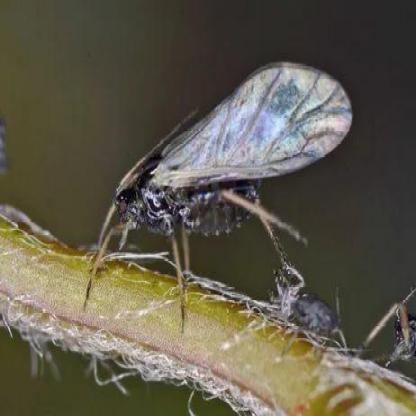aphid: (80, 56, 358, 297), (268, 252, 348, 349)
